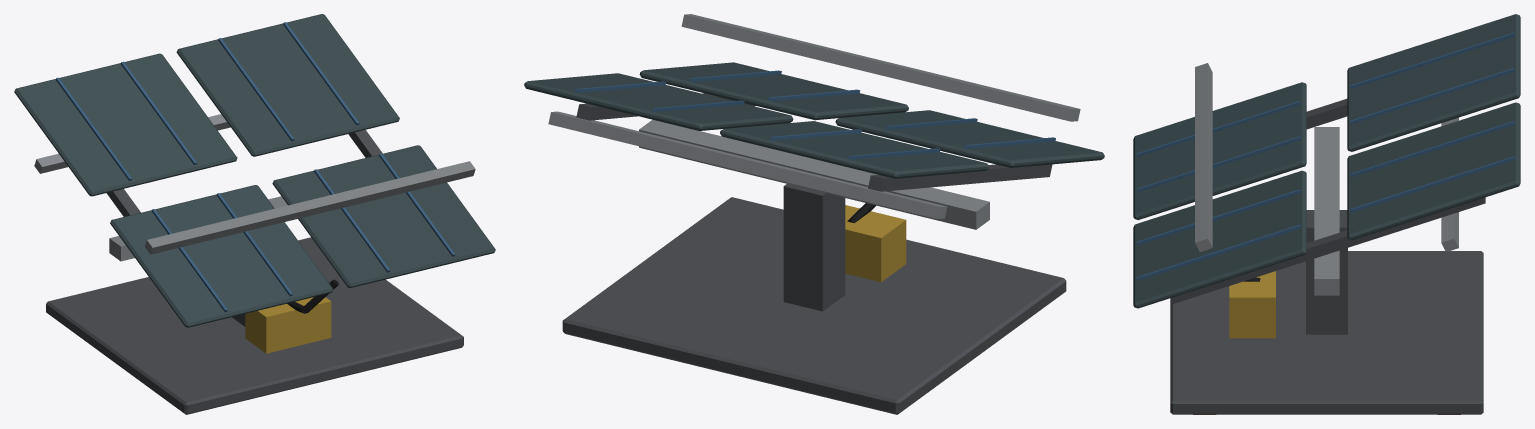
Rendered from piece_solar.fbx.
The picture shows the model from 3 angles, left to right: view 1: azimuth 30°, elevation 25°; view 2: azimuth 150°, elevation 25°; view 3: azimuth 270°, elevation 25°; orthographic projection. The views are drawn at different scales.
Parts seen in each view (by area): view 1: piece_solar; view 2: piece_solar; view 3: piece_solar.
Part boxes in pixels (left/top/right/bottom): piece_solar: left=14, top=14, right=495, bottom=414; piece_solar: left=524, top=14, right=1104, bottom=414; piece_solar: left=1133, top=14, right=1520, bottom=414.
Size of the model in its own units: 1.79 by 1.19 by 1.67.
